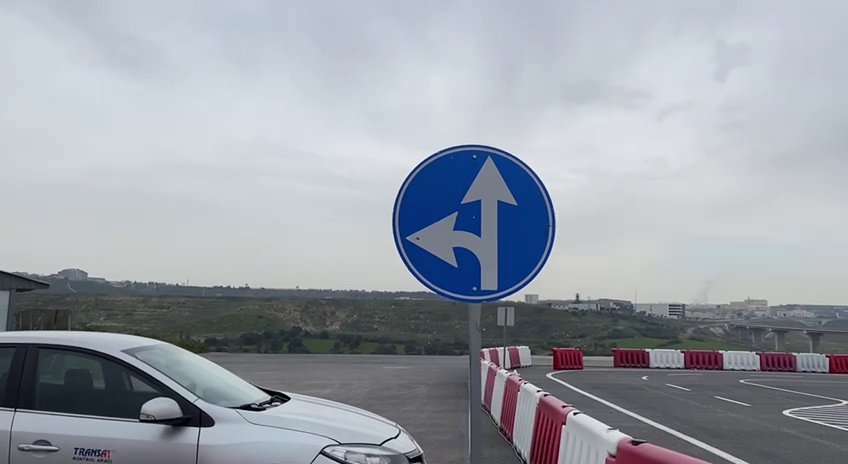forwardAndLeft: (383, 135, 562, 308)
